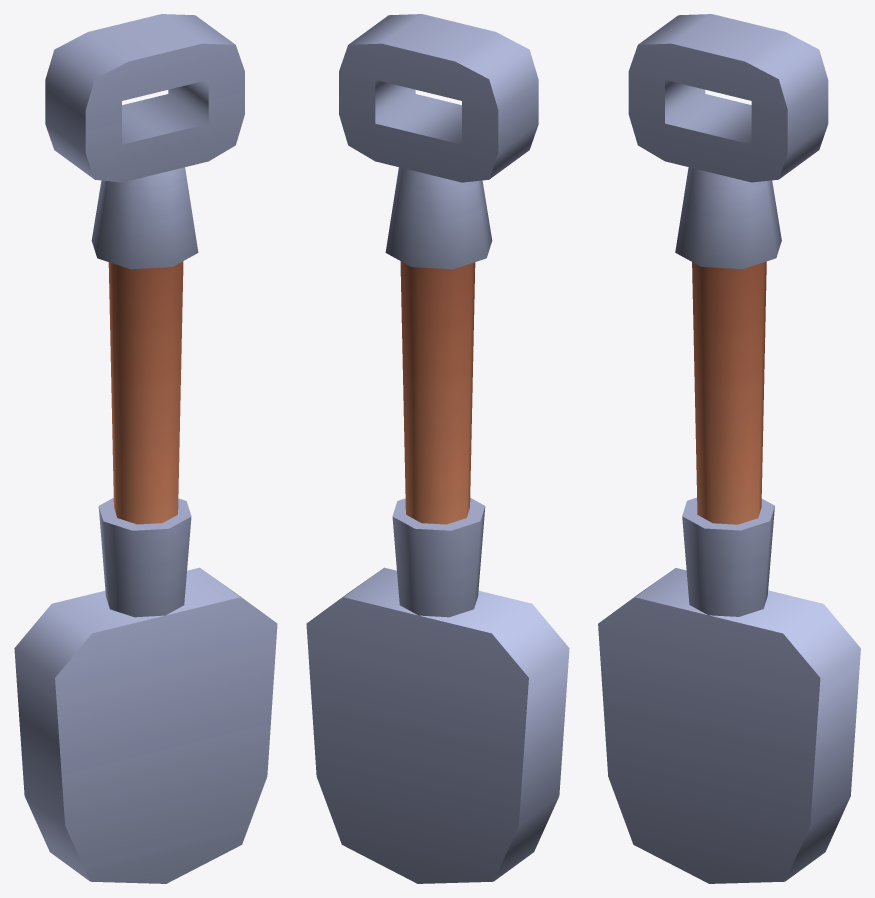
Rendered from tool-shovel.glb.
3 views of the same model, side by side, from view 1: azimuth 30°, elevation 25°; view 2: azimuth 150°, elevation 25°; view 3: azimuth 330°, elevation 25° (orthographic).
Visible parts, largest first — view 1: tool-shovel; view 2: tool-shovel; view 3: tool-shovel.
Part boxes in pixels (x1=…): tool-shovel: x1=14, y1=14, x2=277, y2=883; tool-shovel: x1=306, y1=14, x2=569, y2=883; tool-shovel: x1=598, y1=14, x2=860, y2=883.
Size of the model in its own units: 0.6579 by 2.35 by 0.2828.
1 material, 1 textured.
